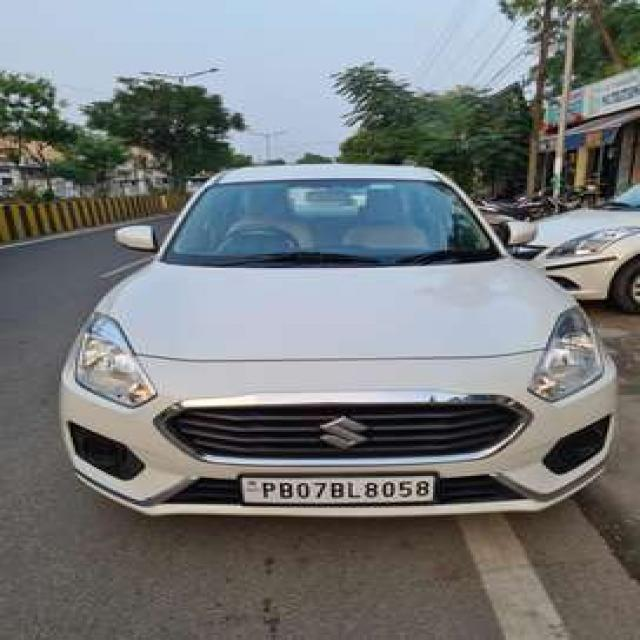Plate: (241, 475, 432, 502)
